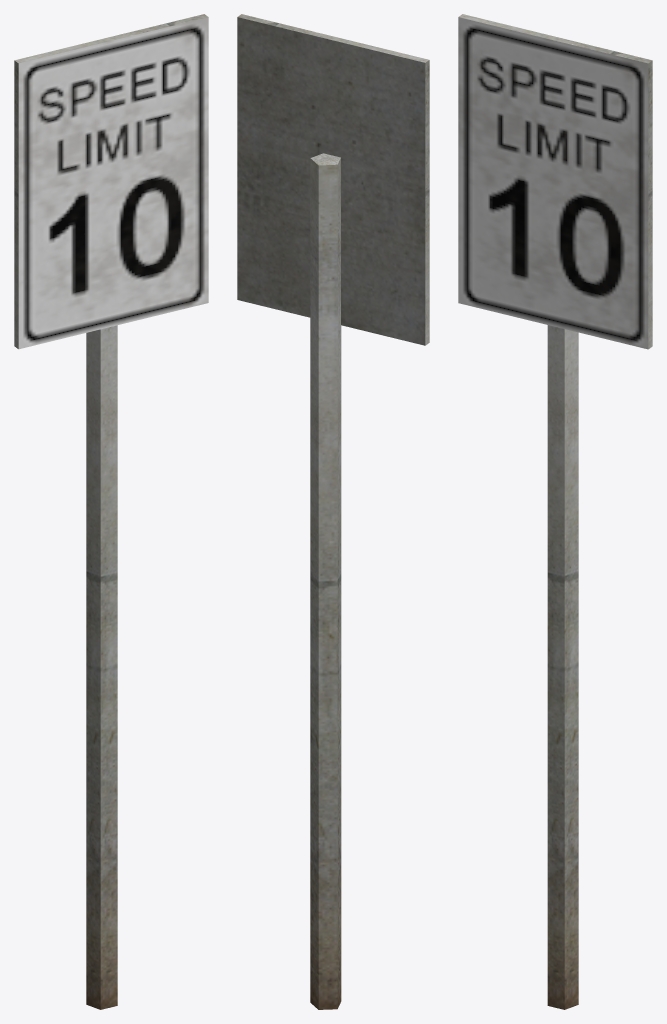
The picture shows the model from 3 angles, left to right: view 1: azimuth 30°, elevation 25°; view 2: azimuth 150°, elevation 25°; view 3: azimuth 330°, elevation 25°; orthographic projection.
Visible parts, largest first — view 1: Plane.001; view 2: Plane.001; view 3: Plane.001.
Boxes of the visible parts, x1,y1,x2,y2 form: Plane.001: [14, 14, 208, 1009]; Plane.001: [237, 14, 429, 1009]; Plane.001: [458, 14, 652, 1009].
Size of the model in its own units: 99.83 by 487 by 16.43.
